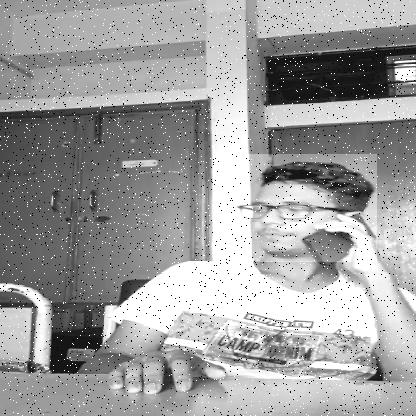Distracted: (213, 155, 377, 262)
